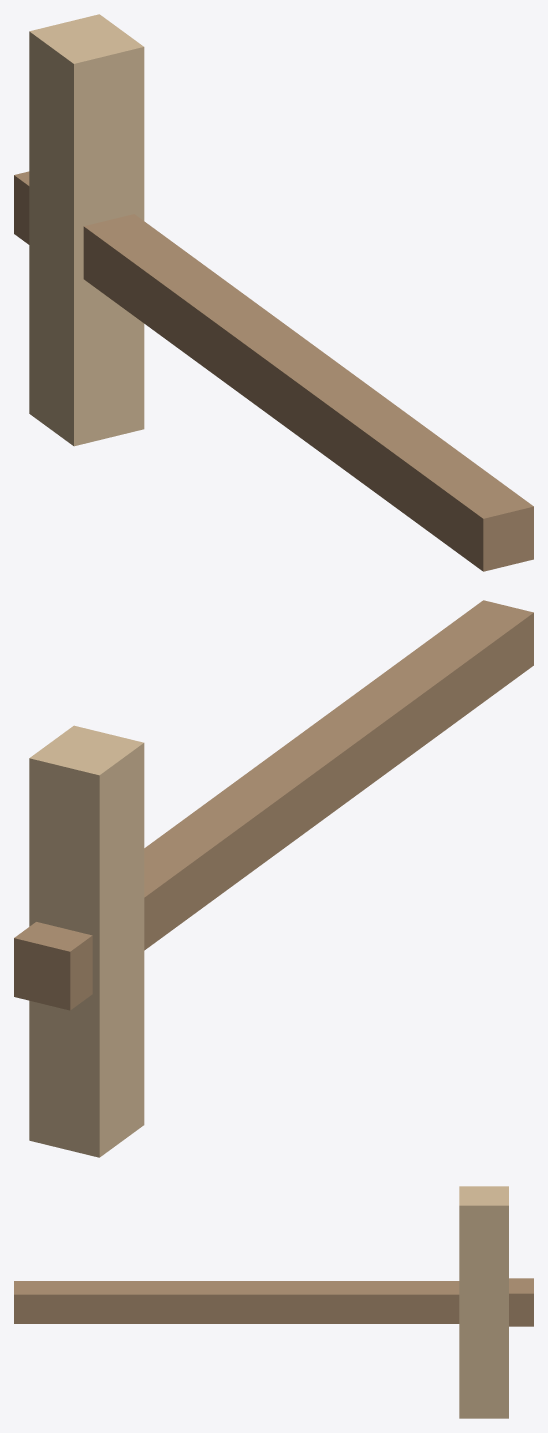
The model's file is wood_pick_held.gltf.
The picture shows the model from 3 angles, top to bottom: view 1: azimuth 30°, elevation 25°; view 2: azimuth 150°, elevation 25°; view 3: azimuth 270°, elevation 25°; orthographic projection. The views are drawn at different scales.
Visible parts, largest first — view 1: tools_wood_pick_held; view 2: tools_wood_pick_held; view 3: tools_wood_pick_held.
Boxes of the visible parts, x1=… form: tools_wood_pick_held: x1=14, y1=14, x2=533, y2=571; tools_wood_pick_held: x1=14, y1=600, x2=533, y2=1157; tools_wood_pick_held: x1=14, y1=1186, x2=533, y2=1418.
Bounding box in the file's own units: 0.05 × 0.26 × 0.575.
